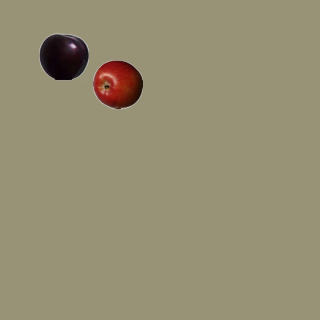Apple Braeburn: (92, 59, 142, 109)
Cherry Wax Black: (38, 31, 88, 81)
